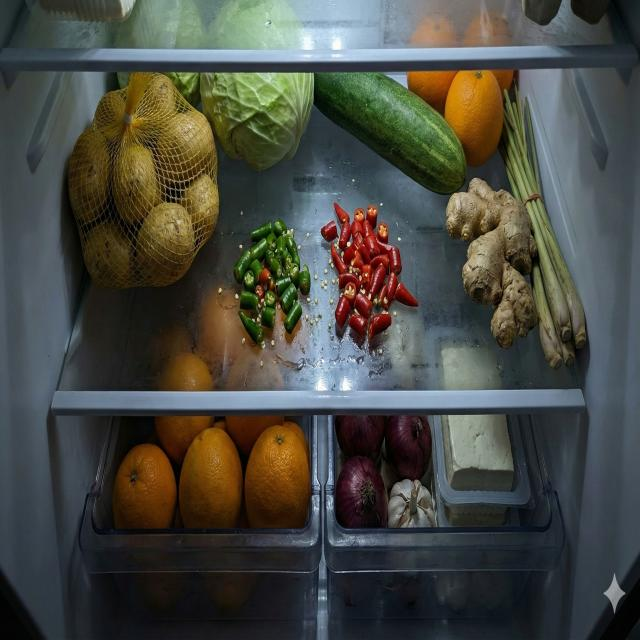cabbage: (199, 0, 315, 172)
chili: (320, 202, 419, 341), (233, 218, 311, 346)
cucumber: (314, 70, 467, 197)
garlic: (387, 479, 436, 528)
ginger: (445, 178, 539, 350)
lemongrass: (498, 78, 587, 372)
onion: (334, 414, 432, 530)
orange: (112, 350, 311, 530), (406, 70, 514, 169)
potato: (67, 73, 220, 290)
tofu: (441, 348, 515, 492)
